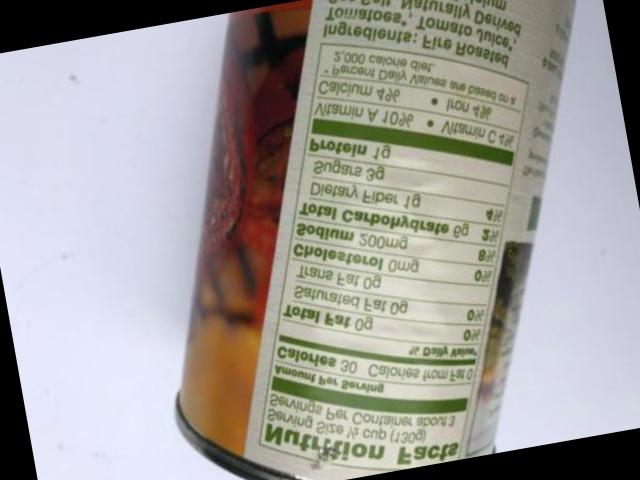metal: (175, 0, 573, 480)
